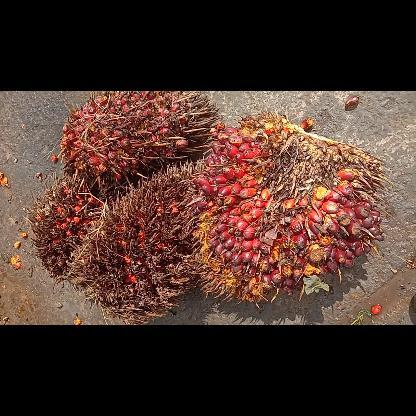TBS masak: (178, 110, 396, 308), (57, 90, 218, 196)
Terlalu masak: (66, 160, 206, 324), (23, 170, 118, 286)
